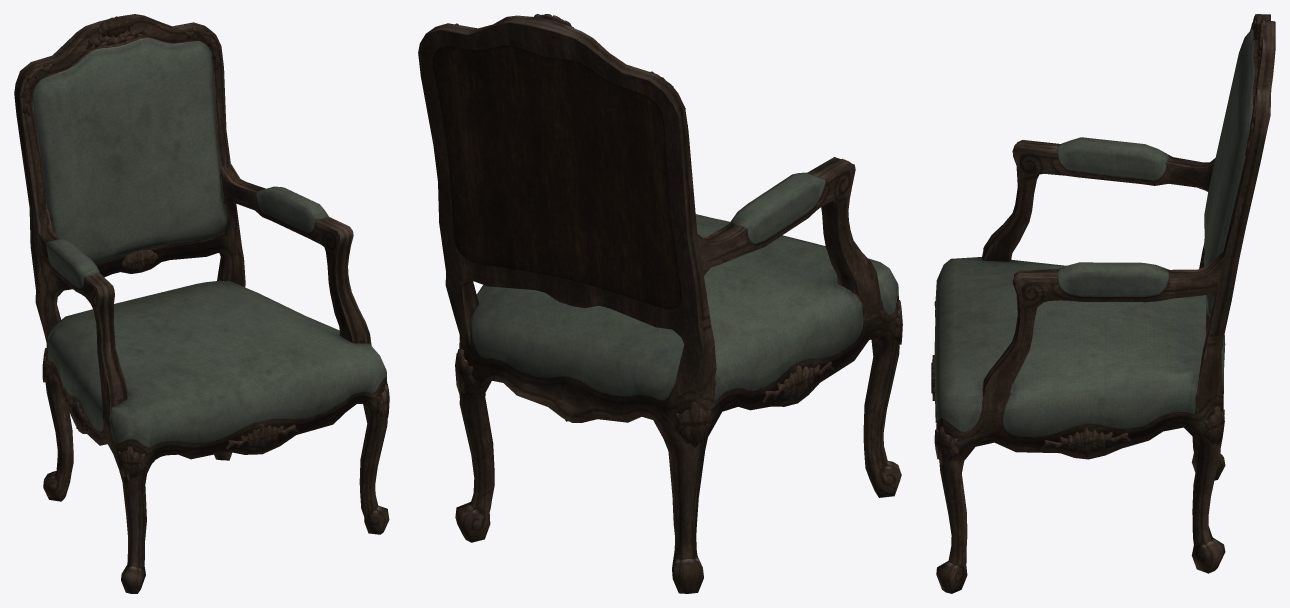
Rendered from GreenChair_01.glb.
The picture shows the model from 3 angles, left to right: view 1: azimuth 30°, elevation 25°; view 2: azimuth 150°, elevation 25°; view 3: azimuth 270°, elevation 25°; orthographic projection. The views are drawn at different scales.
Visible parts, largest first — view 1: GreenChair_01; view 2: GreenChair_01; view 3: GreenChair_01.
Boxes of the visible parts, left/top/right/bottom form: GreenChair_01: left=14, top=14, right=389, bottom=593; GreenChair_01: left=418, top=14, right=902, bottom=593; GreenChair_01: left=931, top=14, right=1275, bottom=593.
Size of the model in its own units: 0.6731 by 1.06 by 0.6644.
1 material, 1 textured.
